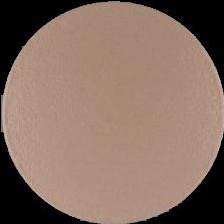55700-086: (0, 0, 224, 224)
